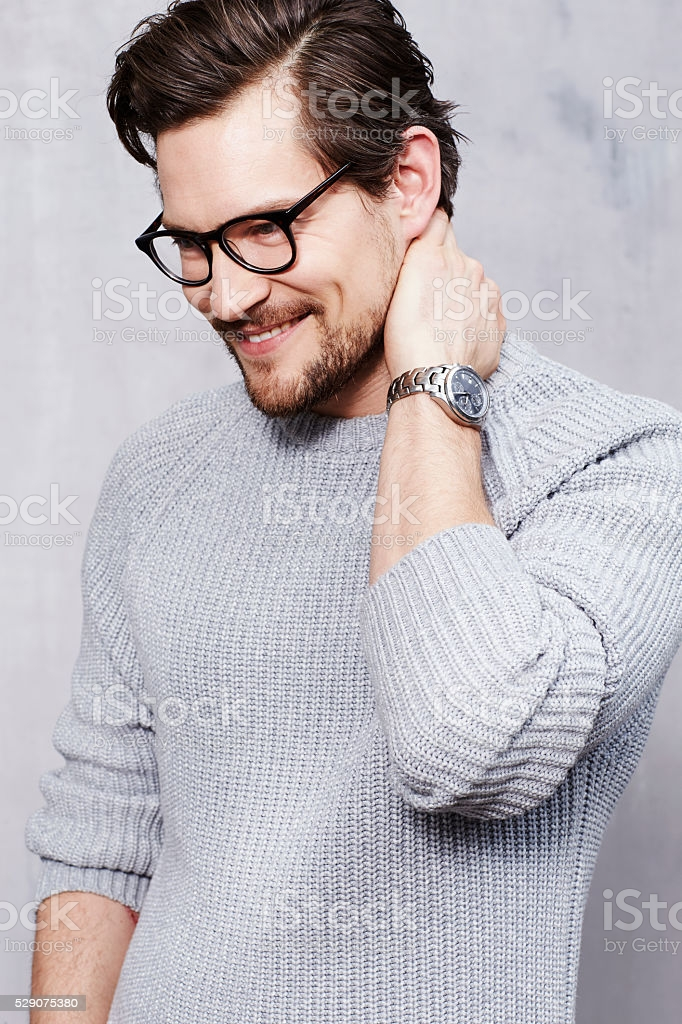glasses: (122, 200, 318, 286)
